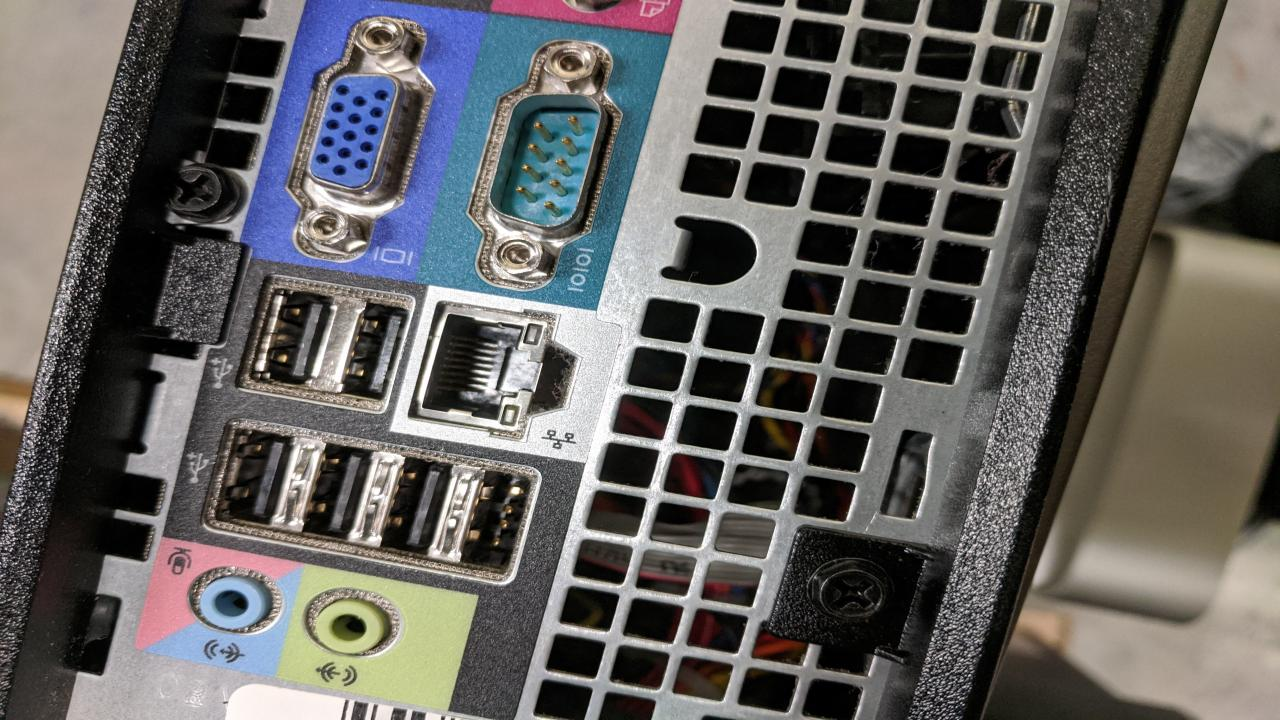CRS: (807, 562, 898, 624), (156, 164, 238, 222)
